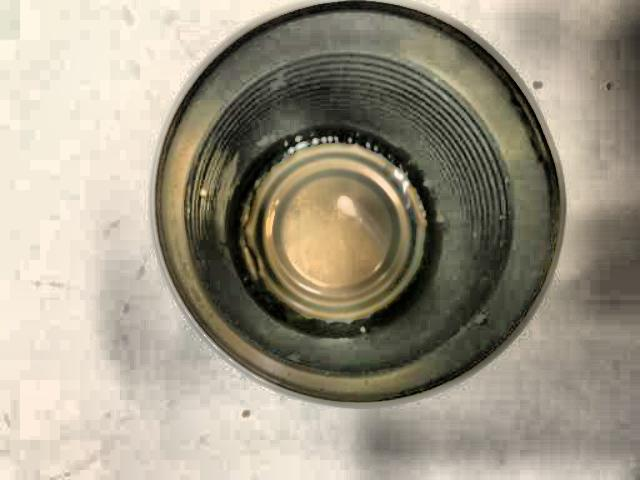Almennt: (162, 0, 569, 410)
